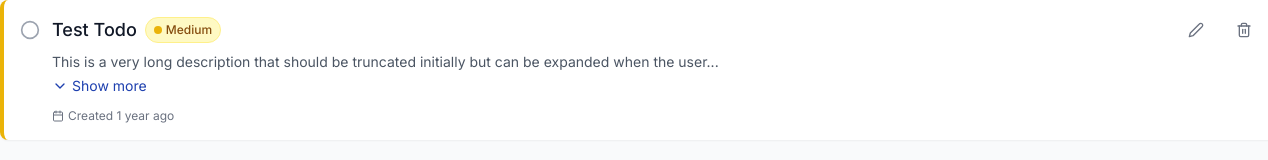
Scenario: TodoList Component › Todo Interactions › should expand description when "show more" is clicked
Click the button "Show more": (99, 86) [52,76,147,96]
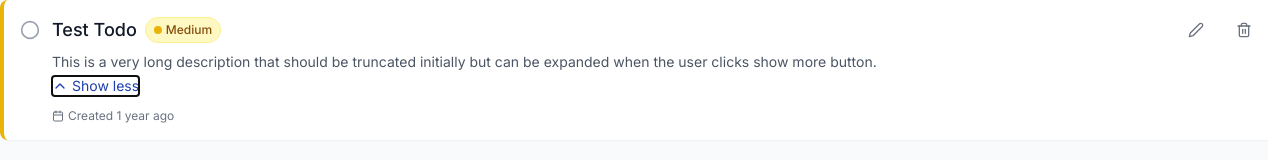
Expected: the button "Show less" is shown, [52,76,139,96]
